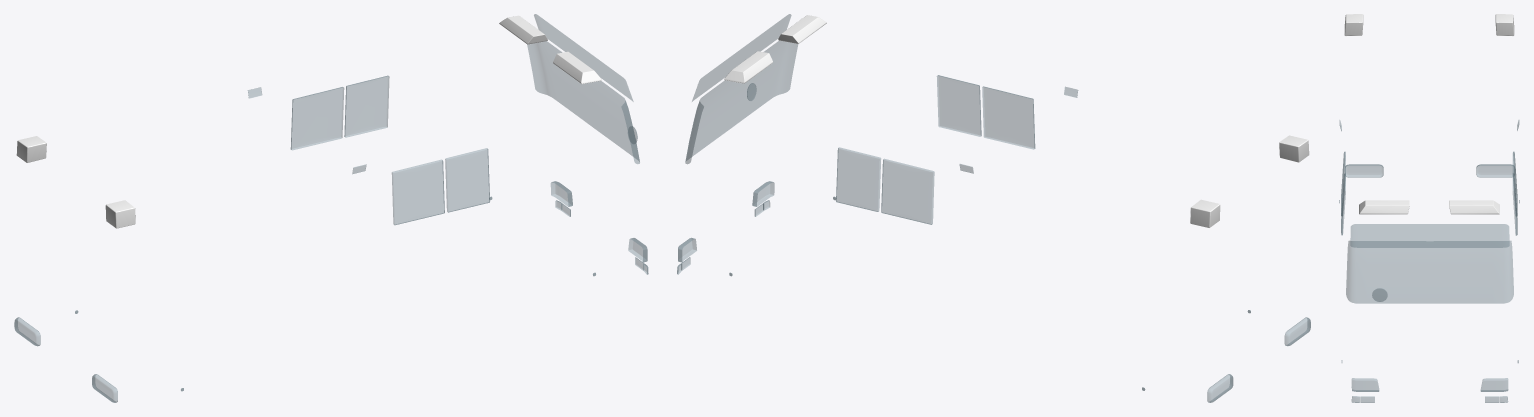
The picture shows the model from 3 angles, left to right: view 1: azimuth 30°, elevation 25°; view 2: azimuth 150°, elevation 25°; view 3: azimuth 270°, elevation 25°; orthographic projection. The views are drawn at different scales.
Visible parts, largest first — view 1: SM_ActrosFiretruck_Glass_Int1; view 2: SM_ActrosFiretruck_Glass_Int1; view 3: SM_ActrosFiretruck_Glass_Int1.
Part boxes in pixels (box(x1,y1,x2,y2)): SM_ActrosFiretruck_Glass_Int1: box(14, 14, 648, 402); SM_ActrosFiretruck_Glass_Int1: box(677, 14, 1310, 402); SM_ActrosFiretruck_Glass_Int1: box(1339, 14, 1519, 402).
Bounding box in the file's own units: 8.33 × 3.1 × 2.84.
